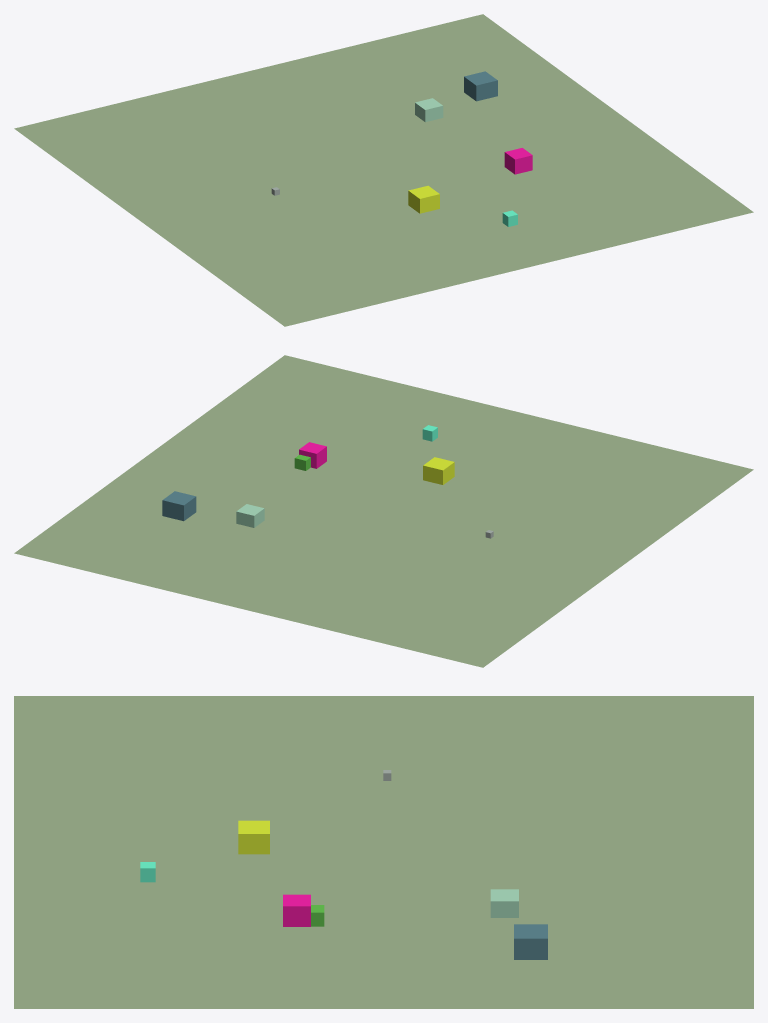
3 views of the same model, one above another, from view 1: azimuth 30°, elevation 25°; view 2: azimuth 150°, elevation 25°; view 3: azimuth 270°, elevation 25° (orthographic). The views are drawn at different scales.
Parts seen in each view (by area): view 1: Chunk_2_0; view 2: Chunk_2_0; view 3: Chunk_2_0.
Part boxes in pixels (bbox=[...]): Chunk_2_0: bbox=[14, 14, 753, 326]; Chunk_2_0: bbox=[14, 355, 753, 667]; Chunk_2_0: bbox=[14, 696, 753, 1008].
Size of the model in its own units: 1500 by 68.78 by 1500.
